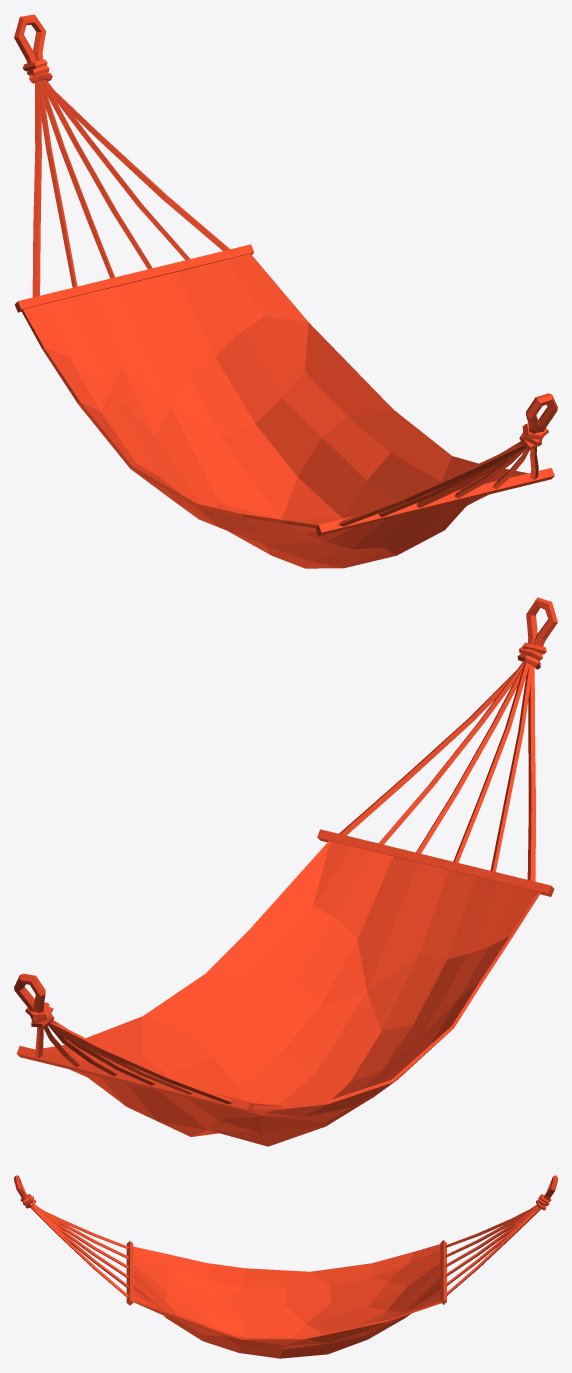
The model's file is SM_Nett_City.fbx.
3 views of the same model, one above another, from view 1: azimuth 30°, elevation 25°; view 2: azimuth 150°, elevation 25°; view 3: azimuth 270°, elevation 25° (orthographic). The views are drawn at different scales.
Parts seen in each view (by area): view 1: SM_Nett_City; view 2: SM_Nett_City; view 3: SM_Nett_City.
Boxes of the visible parts, x1,y1,x2,y2 form: SM_Nett_City: (14, 14, 557, 568); SM_Nett_City: (14, 597, 557, 1146); SM_Nett_City: (14, 1175, 557, 1358).
Size of the model in its own units: 0.889 by 1.1 by 3.1.
